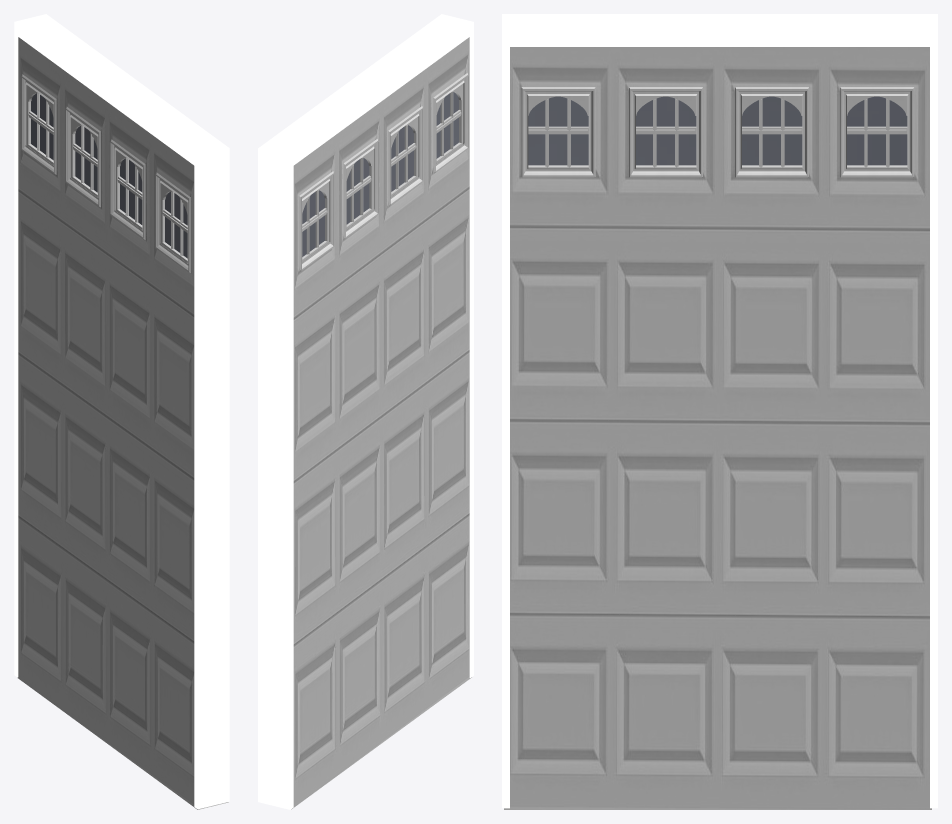
File: overhead_door_door_cascade.19b3ae29.gltf
The picture shows the model from 3 angles, left to right: view 1: azimuth 30°, elevation 25°; view 2: azimuth 150°, elevation 25°; view 3: azimuth 270°, elevation 25°; orthographic projection. The views are drawn at different scales.
Visible parts, largest first — view 1: door, trim, door_window, Glass; view 2: door, trim, door_window, Glass; view 3: door, trim, door_window, Glass.
Boxes of the visible parts, left/top/right/bottom form: door: left=17, top=37, right=228, bottom=809; trim: left=14, top=14, right=229, bottom=809; door_window: left=21, top=74, right=190, bottom=272; Glass: left=31, top=93, right=187, bottom=258; door: left=291, top=37, right=471, bottom=809; trim: left=258, top=14, right=473, bottom=809; door_window: left=299, top=73, right=468, bottom=271; Glass: left=302, top=92, right=458, bottom=256; door: left=504, top=47, right=931, bottom=809; trim: left=502, top=14, right=937, bottom=808; door_window: left=521, top=87, right=914, bottom=177; Glass: left=528, top=96, right=907, bottom=165.
Size of the model in its own units: 0.3533 by 6.01 by 3.05.
Materials: 4 (3 with a texture image).
